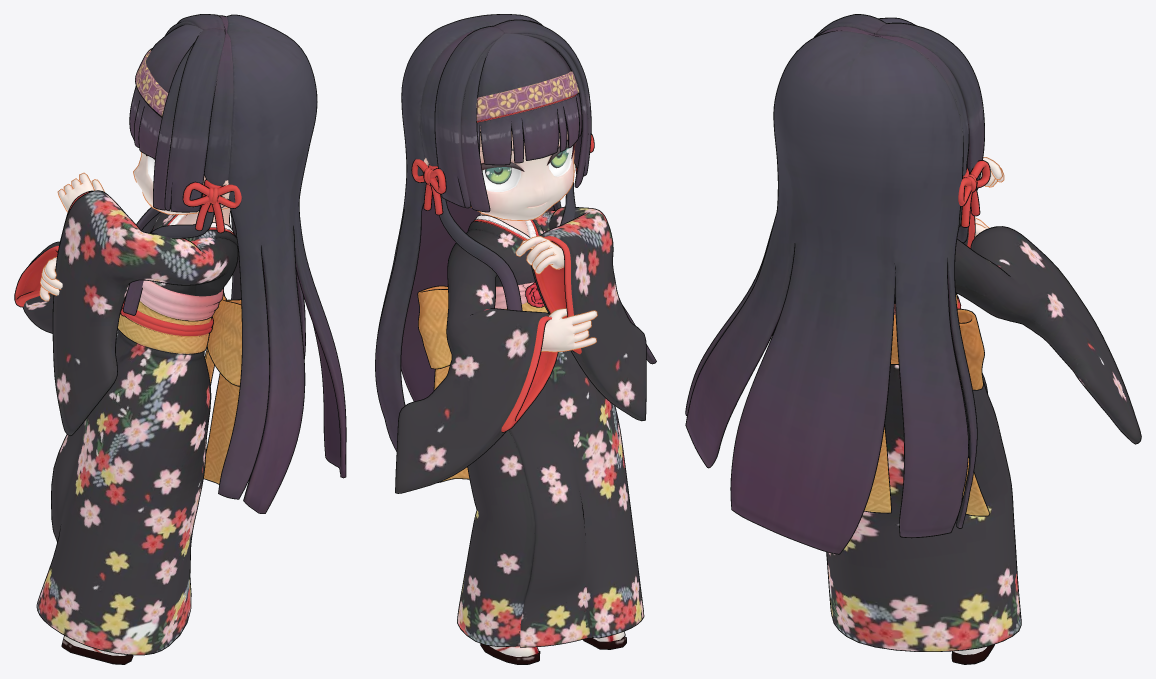
The model's file is Loli-transformed.glb.
3 renders of one model, left to right at view 1: azimuth 30°, elevation 25°; view 2: azimuth 150°, elevation 25°; view 3: azimuth 270°, elevation 25°, orthographic. The views are drawn at different scales.
Parts seen in each view (by area): view 1: lianhua_color_0, outline_black_0, object 3; view 2: lianhua_color_0, outline_black_0, object 3; view 3: lianhua_color_0, outline_black_0.
Boxes of the visible parts, x1=… form: lianhua_color_0: x1=15, y1=14, x2=345, y2=664; outline_black_0: x1=14, y1=14, x2=346, y2=664; object 3: x1=39, y1=152, x2=228, y2=301; lianhua_color_0: x1=375, y1=14, x2=655, y2=664; outline_black_0: x1=375, y1=14, x2=656, y2=664; object 3: x1=471, y1=150, x2=597, y2=352; lianhua_color_0: x1=686, y1=15, x2=1140, y2=663; outline_black_0: x1=685, y1=14, x2=1141, y2=664.
Size of the model in its own units: 1.03 by 2.3 by 1.44.
3 materials, 1 textured.
